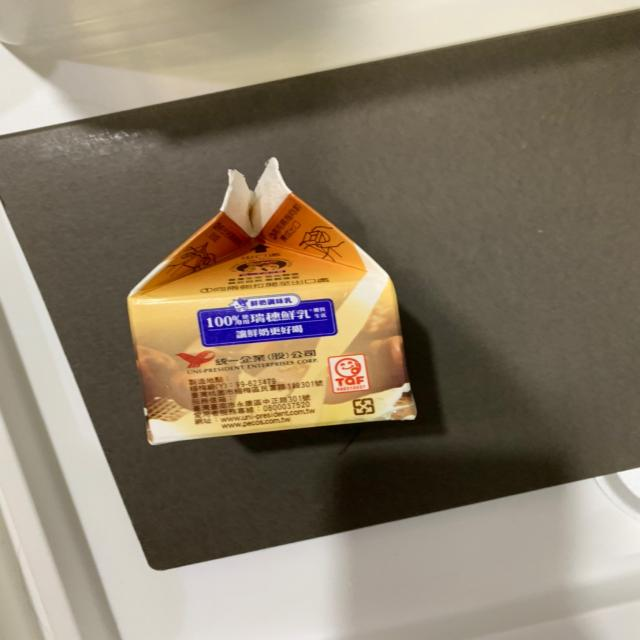non_white_jug: (88, 133, 444, 467)
